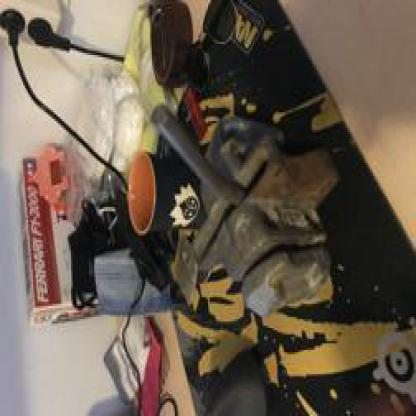Twistlock: (147, 84, 342, 336)
